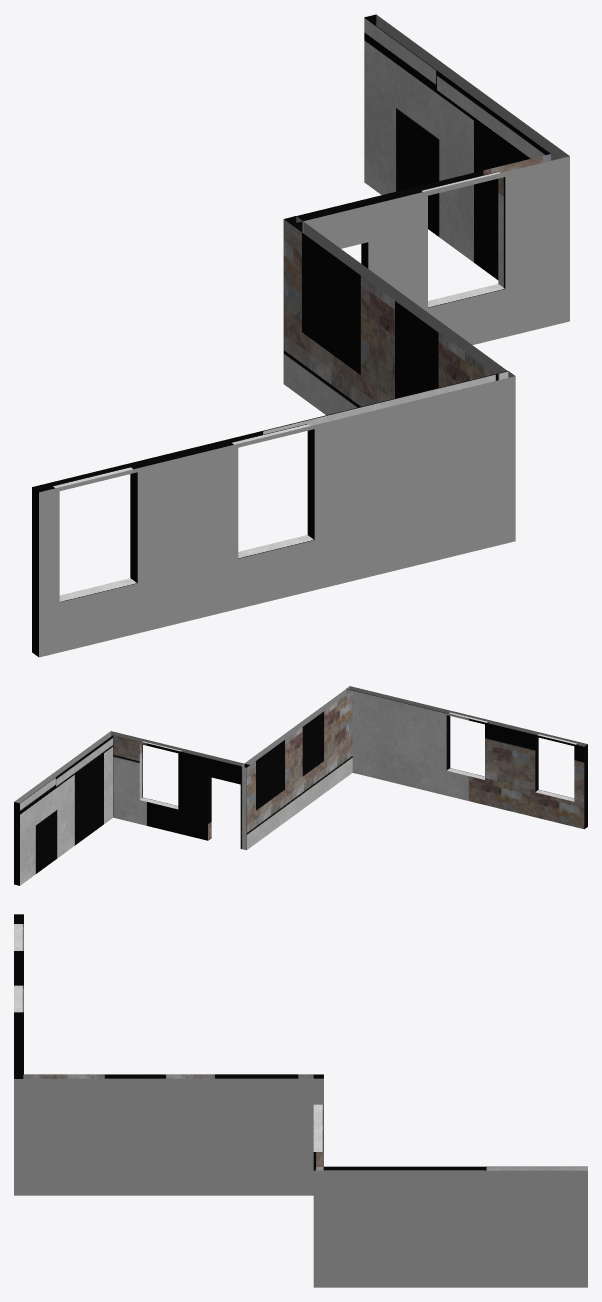
File: Pared 4.fbx
3 views of the same model, one above another, from view 1: azimuth 30°, elevation 25°; view 2: azimuth 150°, elevation 25°; view 3: azimuth 270°, elevation 25° (orthographic). The views are drawn at different scales.
Visible parts, largest first — view 1: Pared_4; view 2: Pared_4; view 3: Pared_4.
Boxes of the visible parts, x1=… form: Pared_4: x1=32, y1=14, x2=569, y2=657; Pared_4: x1=14, y1=686, x2=587, y2=885; Pared_4: x1=14, y1=914, x2=587, y2=1287.
Size of the model in its own units: 1330 by 283 by 1257.
